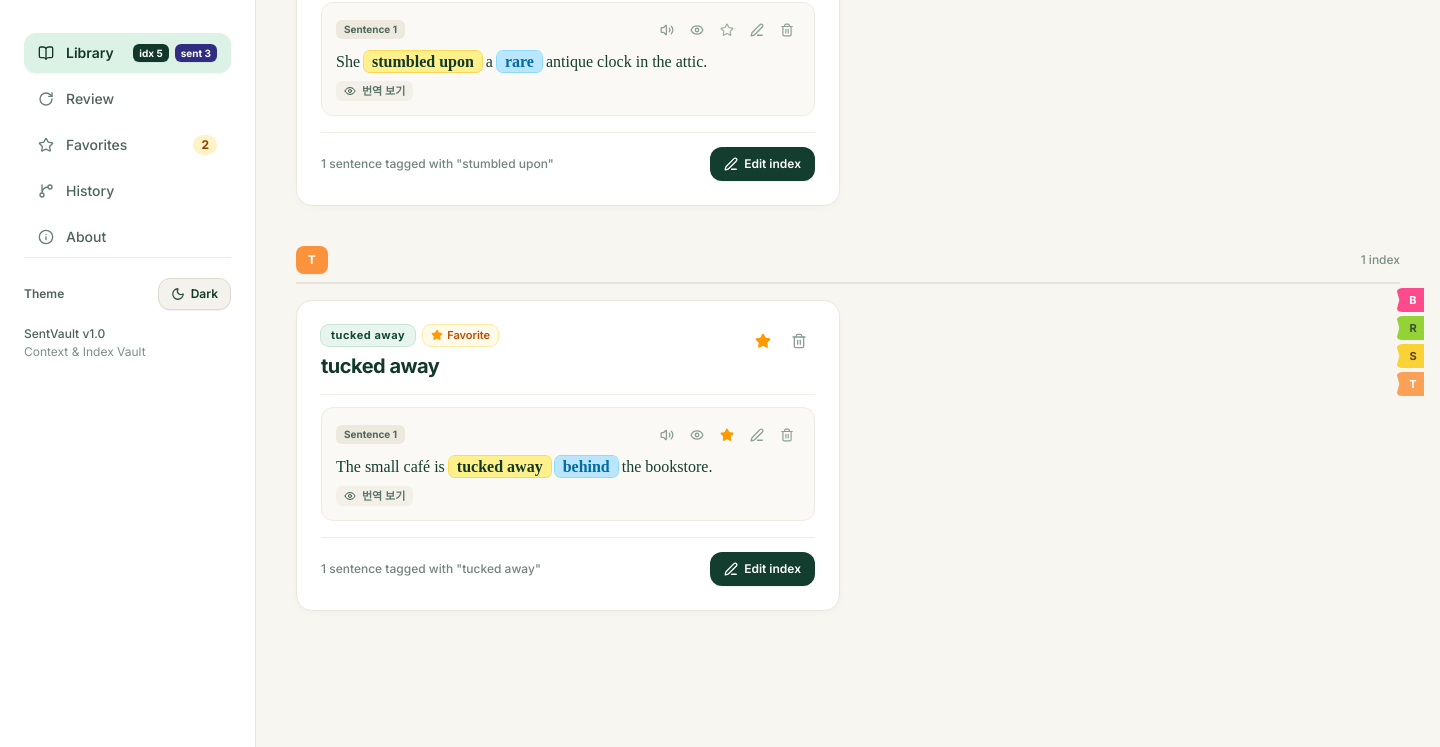
Sentence Note - Multi-Index Management › allows adding multiple indexes at once via comma-separated input
The width and height of the screenshot is (1440, 747).
(page scrolled)
Click the 2nd button "Edit index": coordinates (763, 569) [710,552,815,586]
(page scrolled)
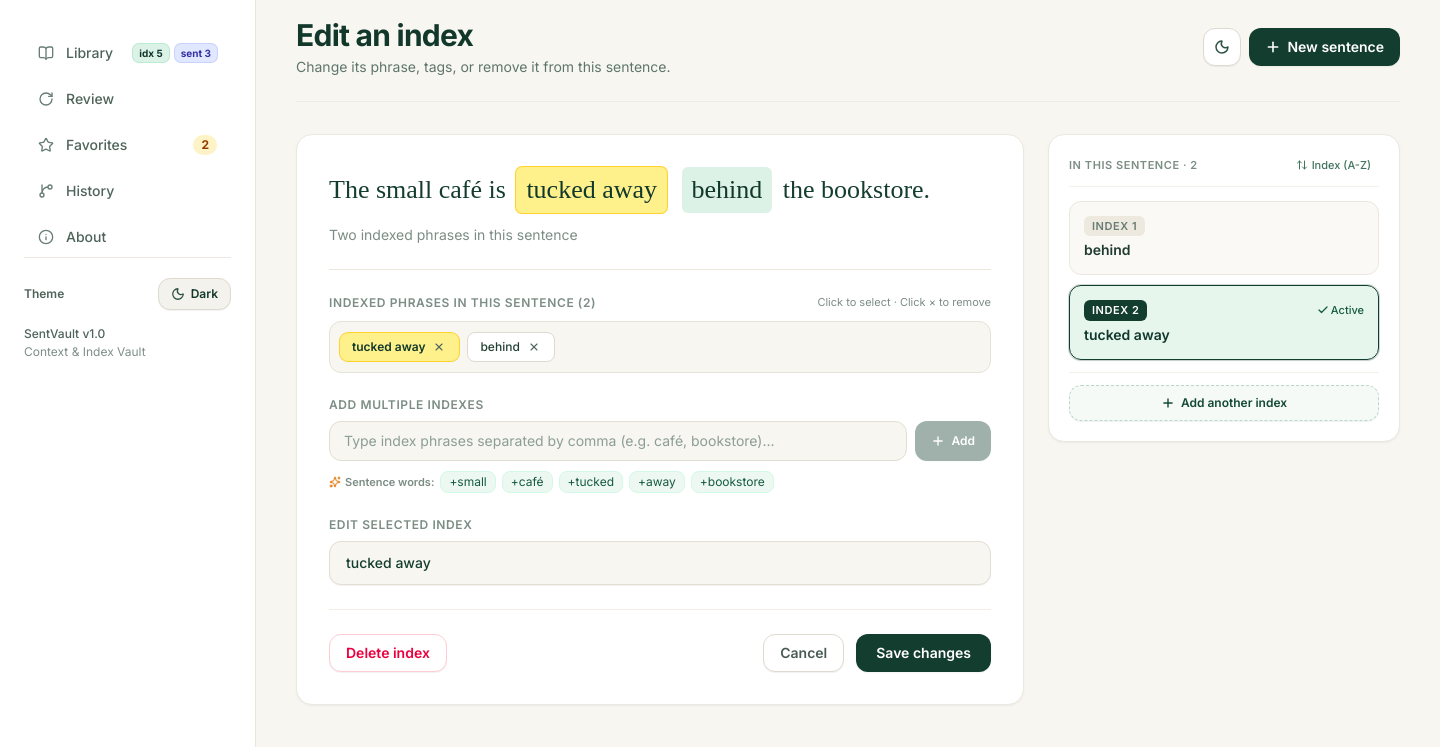
Replace the text in the field with placeholder "Type index phrases separated by comma" with "bookstore, small café": coordinates (618, 441) [329,421,908,461]
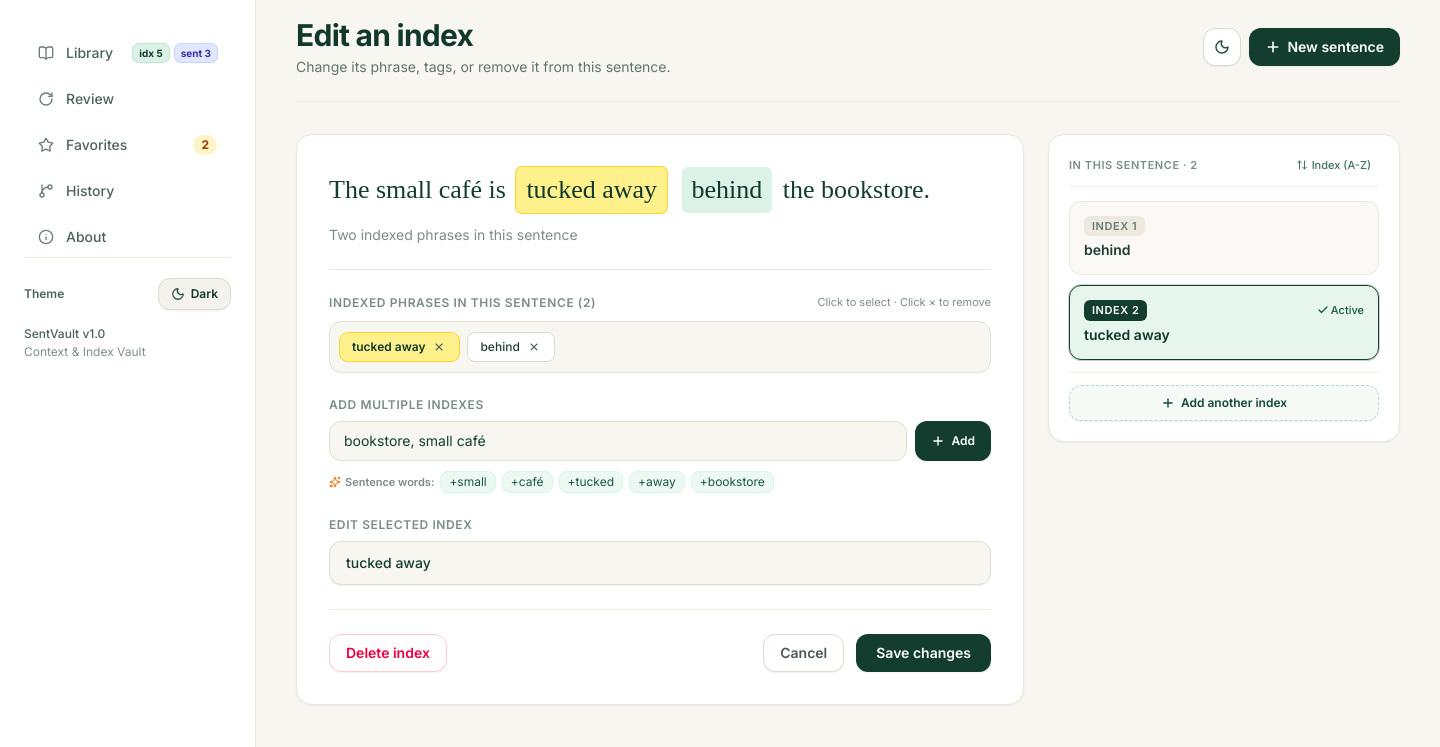
Click the button "Add": coordinates (953, 441) [916,421,991,461]
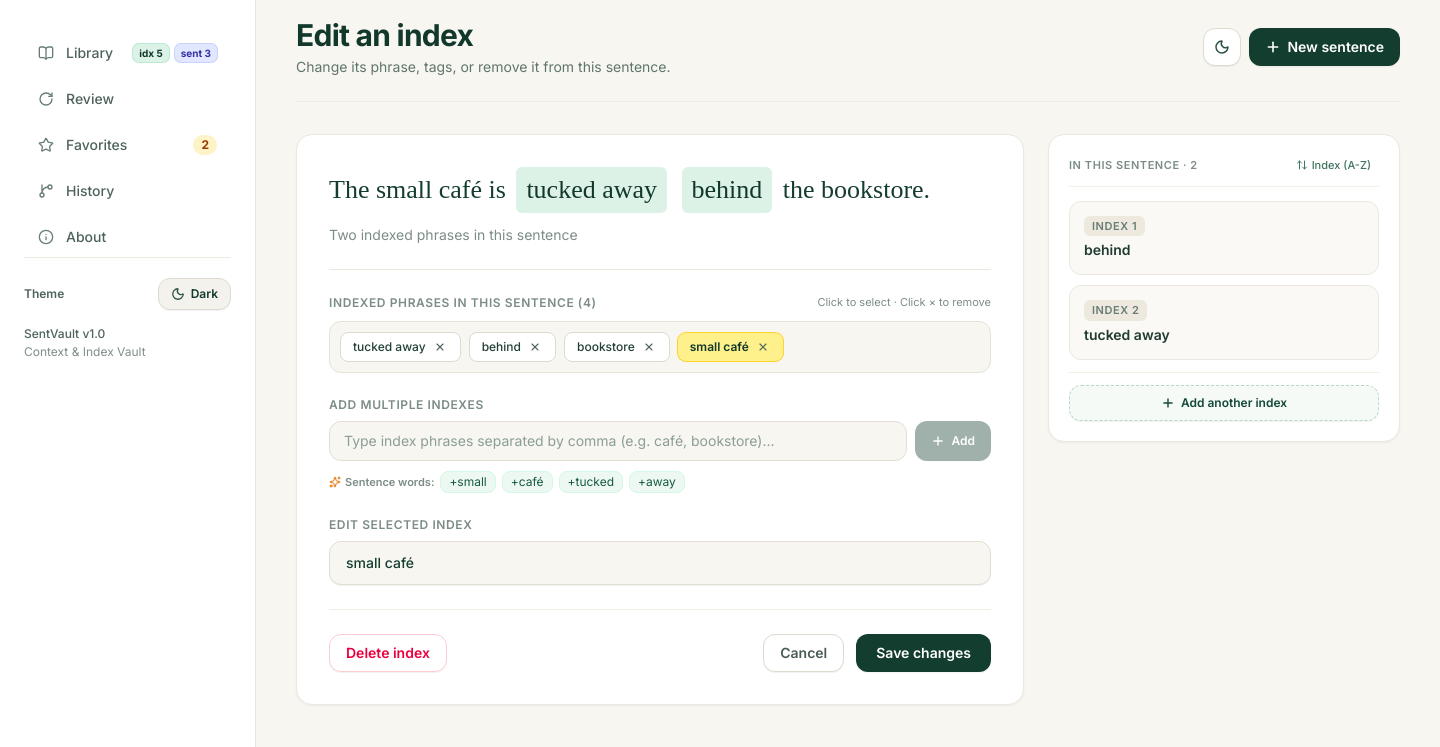
Expected: the text "bookstore" is shown, [577,339,635,355]
Now the text "small café" is shown, box [690,339,749,355]
